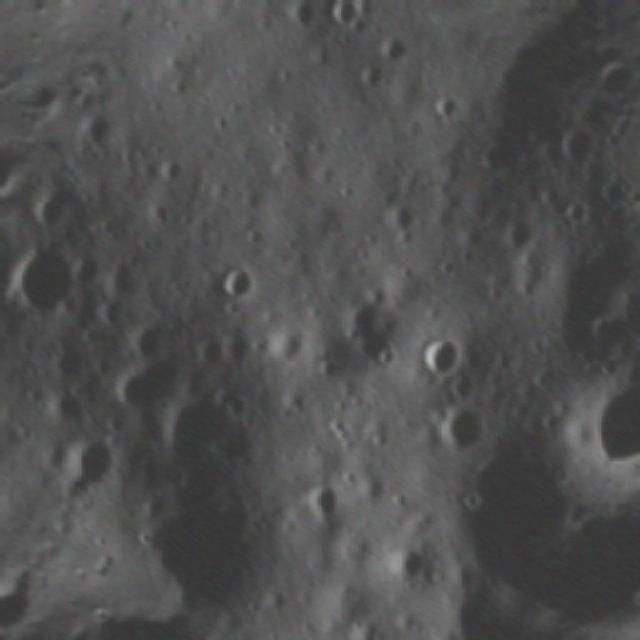crater: (557, 343, 640, 472), (1, 238, 84, 319), (420, 388, 498, 470), (60, 432, 126, 493), (411, 322, 475, 378), (552, 110, 608, 164), (424, 79, 473, 136), (212, 254, 260, 306), (303, 482, 346, 523), (318, 0, 364, 31)
